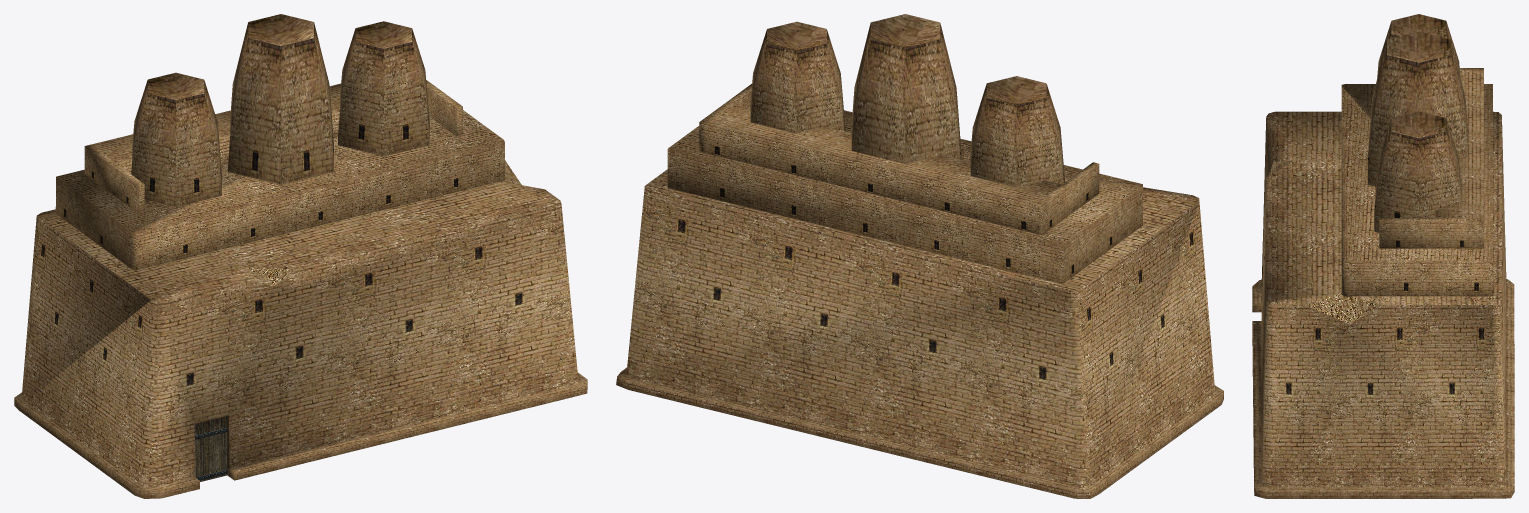
The model's file is w_cd_castle00_brck_00.glb.
3 views of the same model, side by side, from view 1: azimuth 30°, elevation 25°; view 2: azimuth 150°, elevation 25°; view 3: azimuth 270°, elevation 25° (orthographic). The views are drawn at different scales.
Visible parts, largest first — view 1: w_cd_castle00_brck_00, w_cd_castle01_brck_01; view 2: w_cd_castle00_brck_00; view 3: w_cd_castle00_brck_00, w_cd_castle01_brck_01.
Part boxes in pixels (x1,y1,x2,y2): w_cd_castle00_brck_00: (14,14,587,498); w_cd_castle01_brck_01: (246,160,521,286); w_cd_castle00_brck_00: (616,14,1223,498); w_cd_castle00_brck_00: (1252,14,1514,498); w_cd_castle01_brck_01: (1268,160,1380,324).
Size of the model in its own units: 41.78 by 31.5 by 21.76.
Materials: 2 (2 with a texture image).
